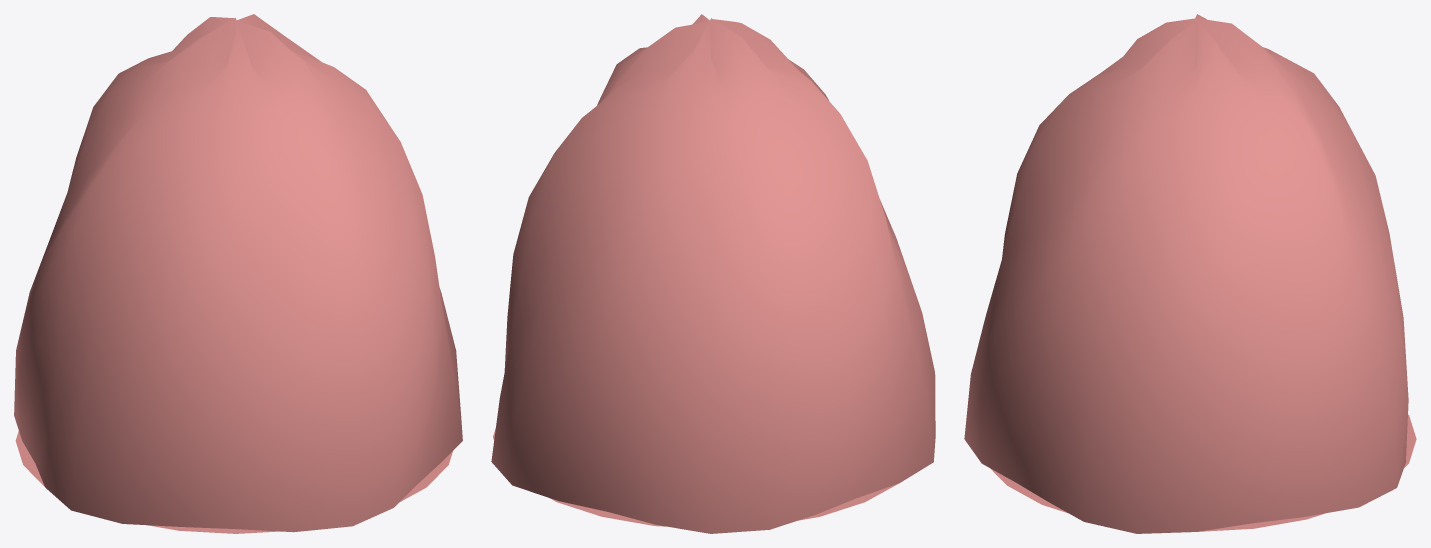
The model's file is carne_picada.glb.
3 views of the same model, side by side, from view 1: azimuth 30°, elevation 25°; view 2: azimuth 150°, elevation 25°; view 3: azimuth 270°, elevation 25° (orthographic).
Visible parts, largest first — view 1: carne_picada; view 2: carne_picada; view 3: carne_picada.
Part boxes in pixels (x1,y1,x2,y2): carne_picada: [14, 14, 462, 533]; carne_picada: [491, 14, 935, 533]; carne_picada: [964, 14, 1416, 533].
Bounding box in the file's own units: 1.02 × 1.06 × 1.03.
